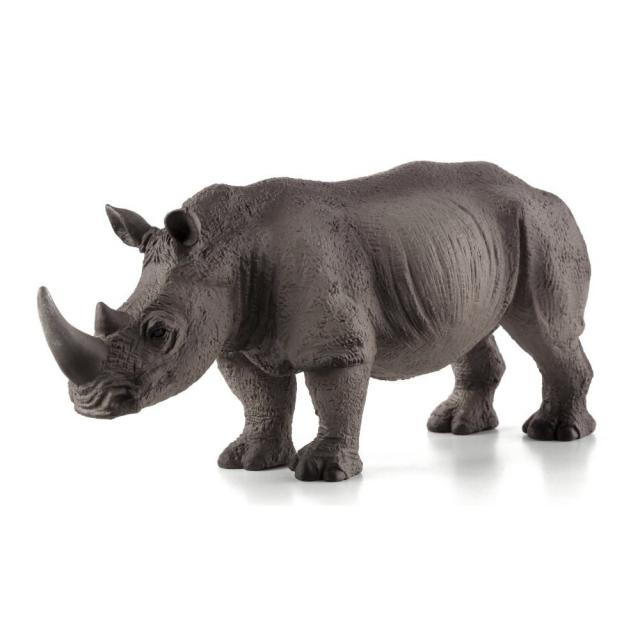rhinoceros: (38, 162, 595, 481)
